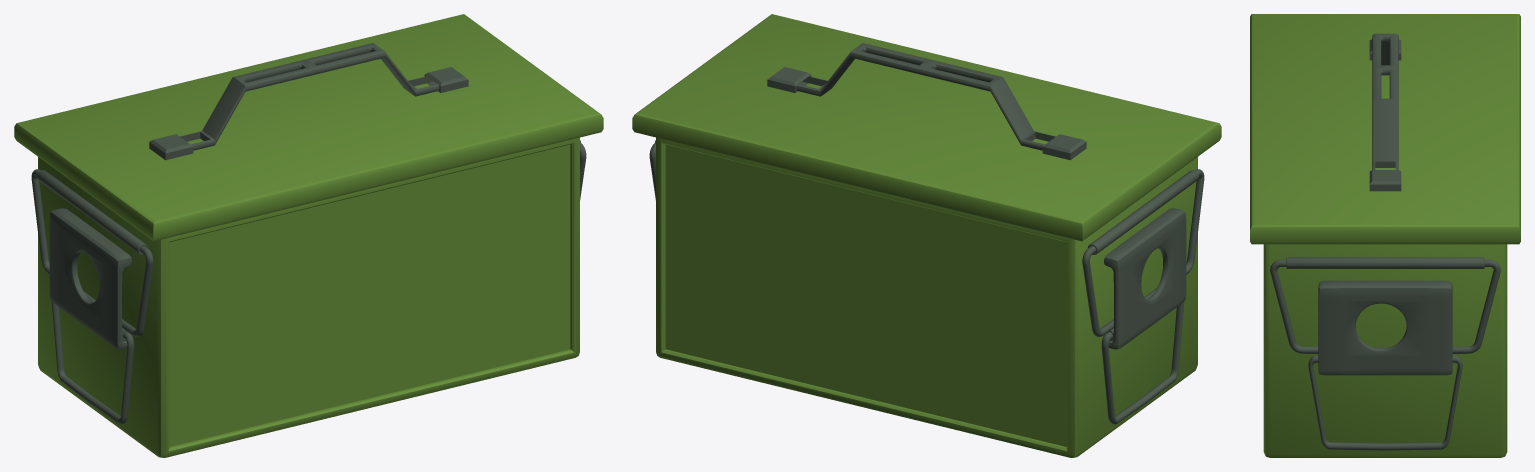
Rendered from Ammo_01a.fbx.
3 renders of one model, left to right at view 1: azimuth 30°, elevation 25°; view 2: azimuth 150°, elevation 25°; view 3: azimuth 270°, elevation 25°, orthographic. The views are drawn at different scales.
Visible parts, largest first — view 1: Ammo_01a; view 2: Ammo_01a; view 3: Ammo_01a.
Boxes of the visible parts, left/top/right/bottom form: Ammo_01a: left=14, top=14, right=603, bottom=457; Ammo_01a: left=632, top=14, right=1221, bottom=457; Ammo_01a: left=1250, top=14, right=1520, bottom=457.
Bounding box in the file's own units: 29.92 × 18.99 × 15.91.
